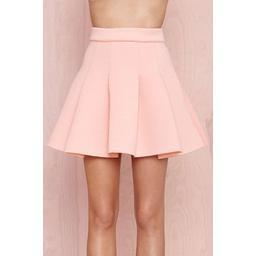skirt: (46, 26, 210, 160)
